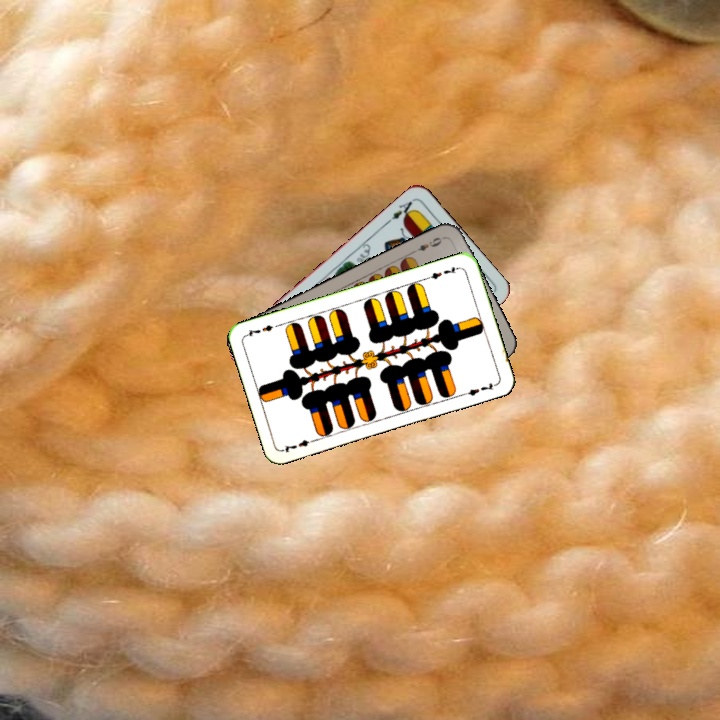E7: (279, 435, 319, 455), (423, 263, 462, 282)
E9: (409, 232, 447, 255)
EA: (383, 195, 418, 226)
